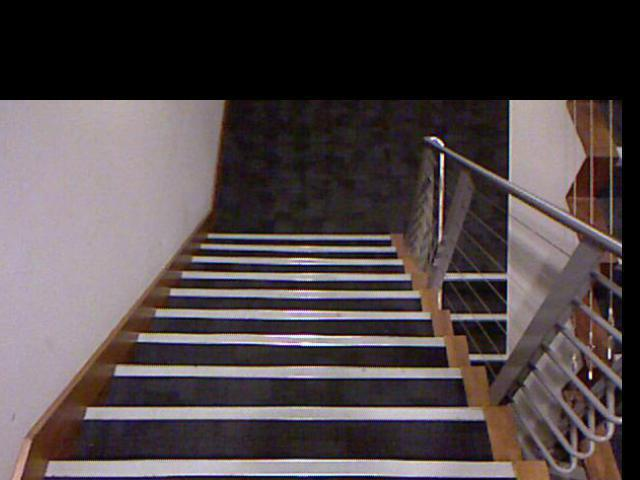Escaleras: (113, 218, 493, 480), (555, 113, 626, 446), (435, 245, 527, 414)
